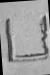D28: (2, 0, 48, 74)
